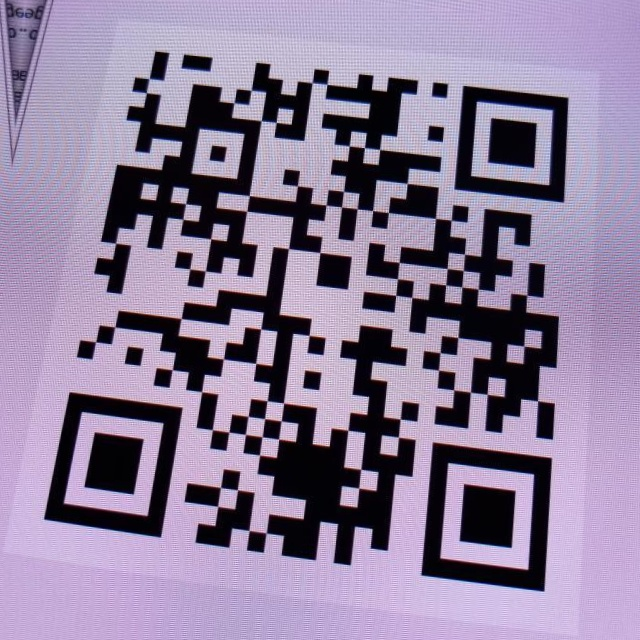qr-code: (27, 25, 619, 624)
